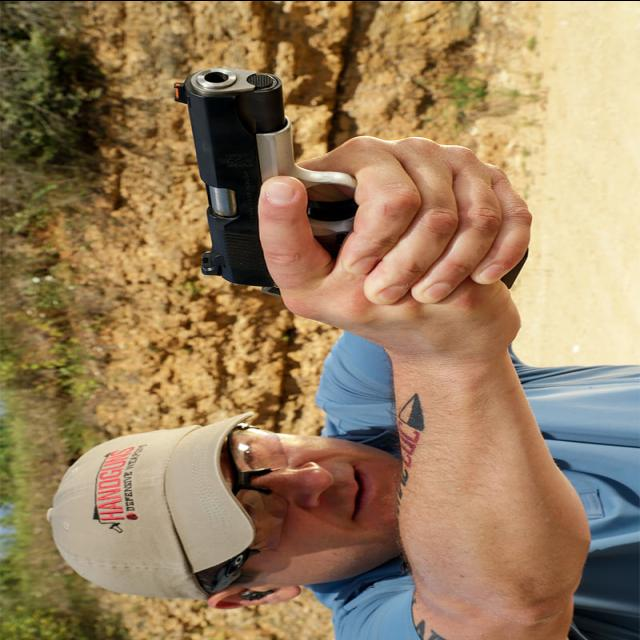weapons: (168, 42, 396, 314)
